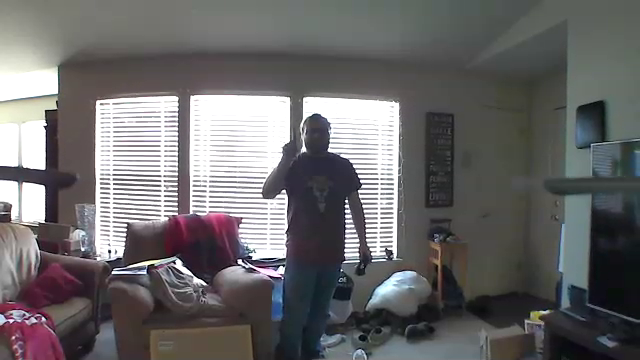up: (277, 122, 300, 158)
